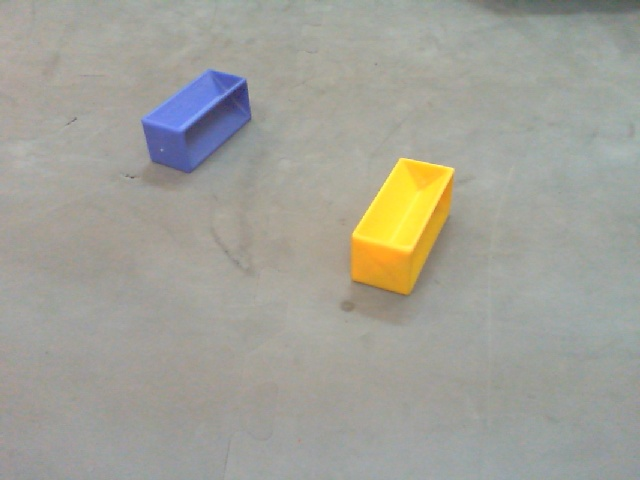BlueSample: (133, 66, 254, 173)
YellowSample: (341, 150, 460, 301)
